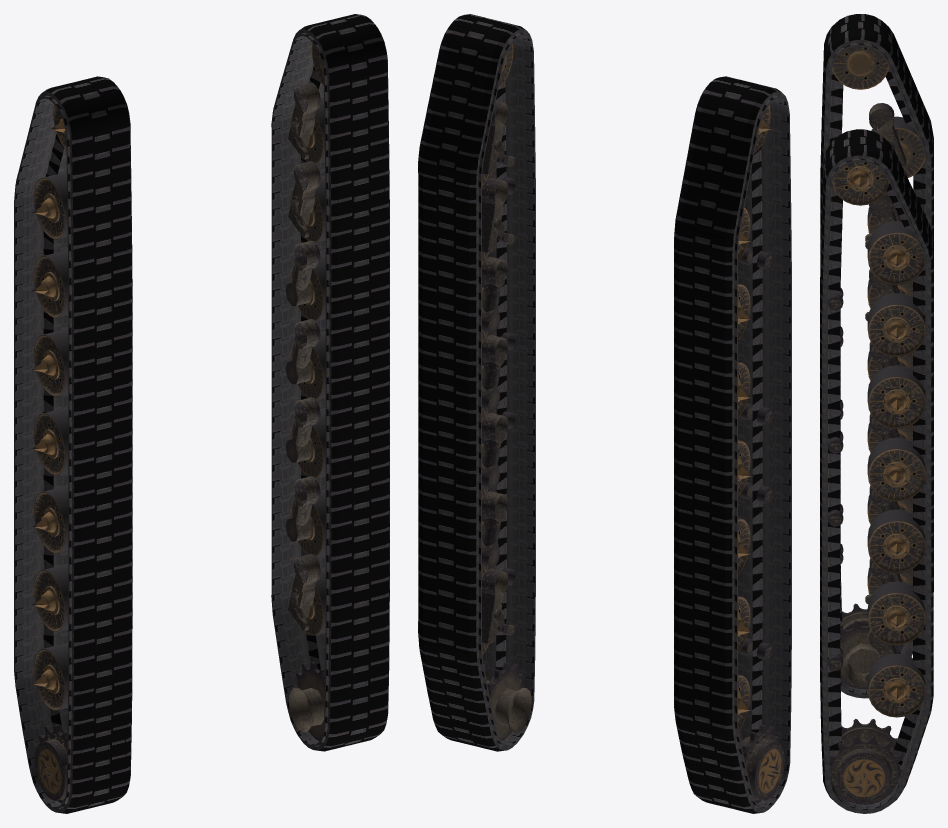
The model's file is Chassis.glb.
3 renders of one model, left to right at view 1: azimuth 30°, elevation 25°; view 2: azimuth 150°, elevation 25°; view 3: azimuth 270°, elevation 25°, orthographic. The views are drawn at different scales.
Visible parts, largest first — view 1: set_0_group_0, set_1_group_0, set_3_group_0, set_2_group_0; view 2: set_0_group_0, set_1_group_0, set_3_group_0, set_2_group_0; view 3: set_3_group_0, set_1_group_0, set_2_group_0, set_0_group_0.
Boxes of the visible parts, bbox=[...] form: set_0_group_0: bbox=[14, 76, 132, 813]; set_1_group_0: bbox=[271, 14, 389, 751]; set_3_group_0: bbox=[285, 43, 325, 741]; set_2_group_0: bbox=[31, 104, 68, 803]; set_0_group_0: bbox=[674, 76, 791, 813]; set_1_group_0: bbox=[418, 14, 535, 751]; set_3_group_0: bbox=[482, 43, 531, 741]; set_2_group_0: bbox=[738, 104, 784, 803]; set_3_group_0: bbox=[828, 162, 925, 804]; set_1_group_0: bbox=[820, 129, 933, 813]; set_2_group_0: bbox=[832, 46, 925, 689]; set_0_group_0: bbox=[820, 14, 933, 698].
Size of the model in its own units: 3.45 by 7.21 by 1.12.
Materials: 4 (4 with a texture image).
